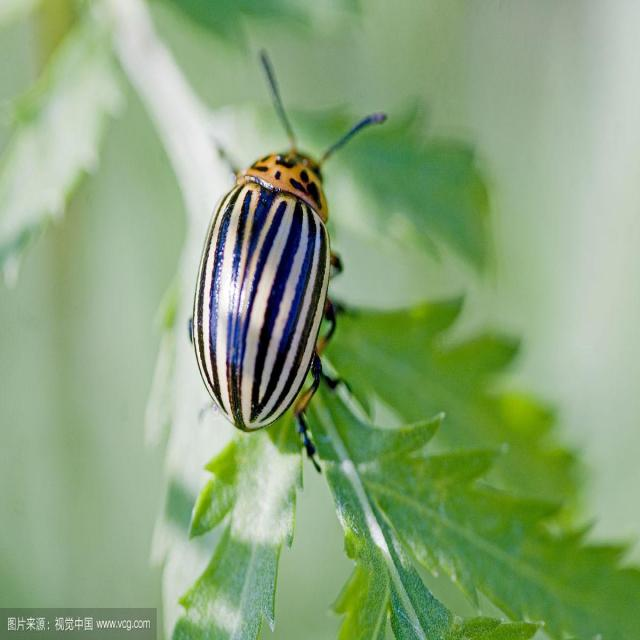ShuCaiHuaBanChong-Grown-: (192, 114, 364, 444)
